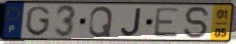3: (53, 3, 78, 40)
E: (152, 7, 182, 39)
G: (24, 5, 52, 37)
J: (119, 7, 143, 37)
Q: (87, 5, 114, 39)
S: (183, 5, 212, 40)
